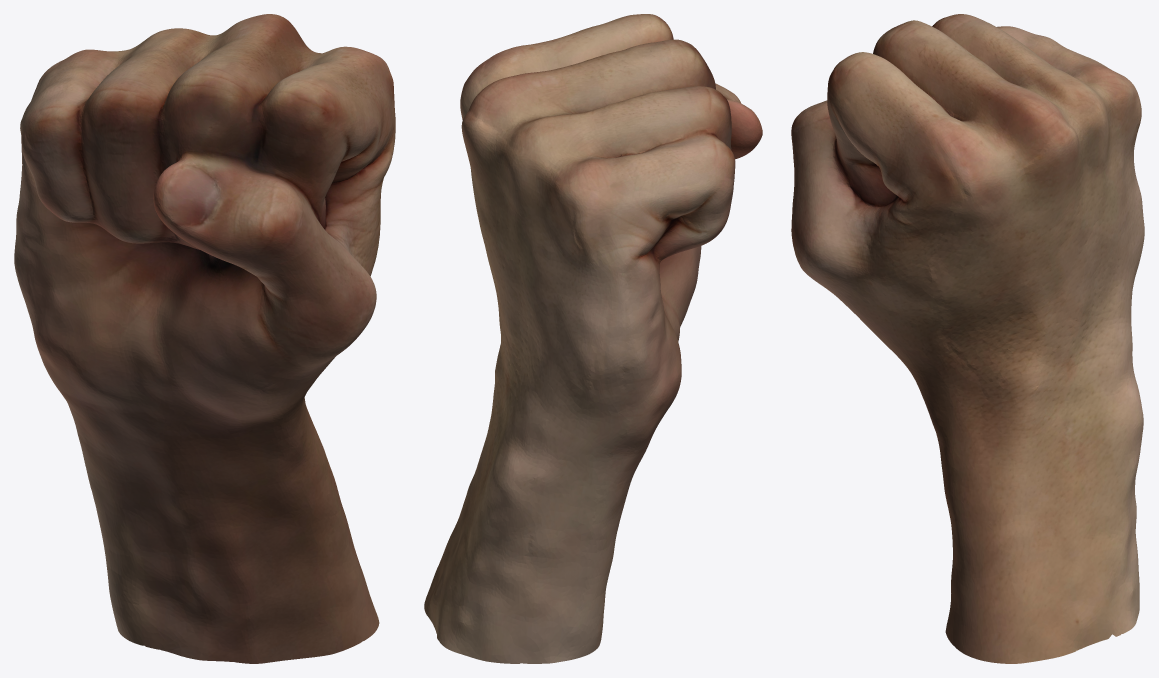
The picture shows the model from 3 angles, left to right: view 1: azimuth 30°, elevation 25°; view 2: azimuth 150°, elevation 25°; view 3: azimuth 270°, elevation 25°; orthographic projection. The views are drawn at different scales.
Bounding box in the file's own units: 0.0888 × 0.1564 × 0.0916.
Materials: 1 (1 with a texture image).
